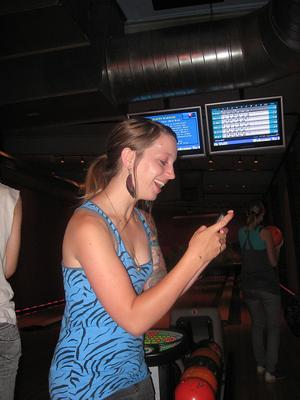person: (48, 114, 234, 398)
